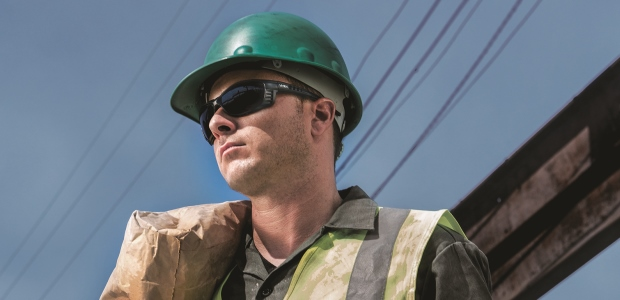epi: (112, 11, 486, 300)
